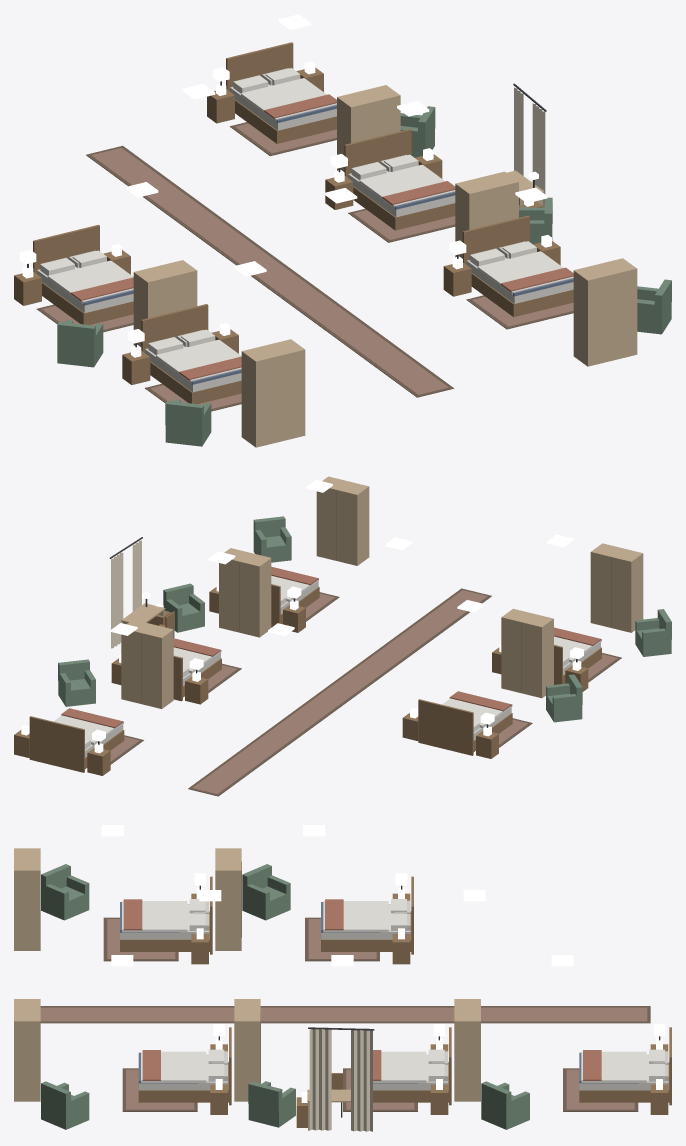
The model's file is fine-s6.glb.
3 renders of one model, top to bottom at view 1: azimuth 30°, elevation 25°; view 2: azimuth 150°, elevation 25°; view 3: azimuth 270°, elevation 25°, orthographic. The views are drawn at different scales.
Visible parts, largest first — view 1: soft-s6, dresser.026, dresser.029, bed-frame.029, bed-frame.027, bed-frame.028, bed-frame.026, bed-frame.025, dresser.025, dresser.028, dresser.027, lounge-chair.025 (+9 smaller); view 2: soft-s6, dresser.026, dresser.029, dresser.025, dresser.027, dresser.028, bed-frame.027, bed-frame.025, lounge-chair.027, lounge-chair.029, lounge-chair.028, lounge-chair.025 (+9 smaller); view 3: soft-s6, dresser.026, dresser.027, dresser.029, dresser.025, dresser.028, lounge-chair.025, lounge-chair.026, bed-frame.029, bed-frame.027, bed-frame.025, bed-frame.026 (+9 smaller).
Part boxes in pixels (x1,y1,x2,y2): soft-s6: (19, 67, 573, 411); dresser.026: (241, 339, 305, 447); dresser.029: (573, 258, 637, 366); bed-frame.029: (462, 215, 573, 317); bed-frame.027: (226, 42, 336, 143); bed-frame.028: (344, 129, 455, 230); bed-frame.026: (141, 304, 241, 404); bed-frame.025: (33, 224, 133, 324); dresser.025: (133, 260, 197, 346); dresser.028: (455, 171, 518, 258); dresser.027: (337, 85, 400, 171); lounge-chair.025: (57, 320, 103, 367); soft-s6: (53, 537, 621, 796); dresser.026: (590, 543, 643, 632); dresser.029: (316, 476, 369, 565); dresser.025: (501, 608, 553, 698); dresser.027: (121, 619, 173, 708); dresser.028: (219, 548, 271, 637); bed-frame.027: (29, 716, 124, 772); bed-frame.025: (418, 699, 512, 755); lounge-chair.027: (58, 659, 95, 706); lounge-chair.029: (253, 516, 291, 562); lounge-chair.028: (163, 583, 204, 632); lounge-chair.025: (546, 674, 582, 722); soft-s6: (40, 873, 666, 1131); dresser.026: (14, 848, 40, 950); dresser.027: (454, 999, 480, 1101); dresser.029: (14, 999, 40, 1101); dresser.025: (215, 848, 241, 950); dresser.028: (234, 999, 260, 1101); lounge-chair.025: (242, 864, 290, 920); lounge-chair.026: (41, 864, 89, 920); bed-frame.029: (138, 1027, 231, 1105); bed-frame.027: (579, 1027, 671, 1105); bed-frame.025: (321, 876, 413, 954); bed-frame.026: (120, 876, 212, 954).
Bounding box in the file's own units: 12.52 × 3.01 × 14.89.
